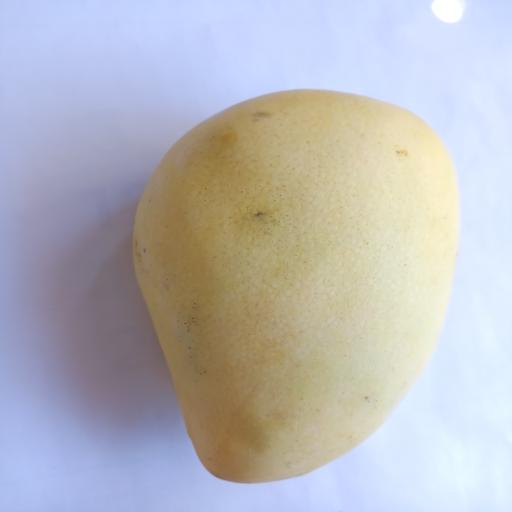mango-ripe: (113, 73, 475, 499)
